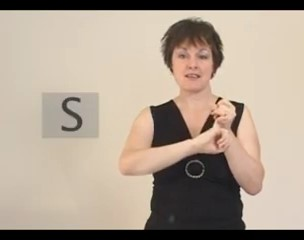S: (195, 94, 240, 159)
